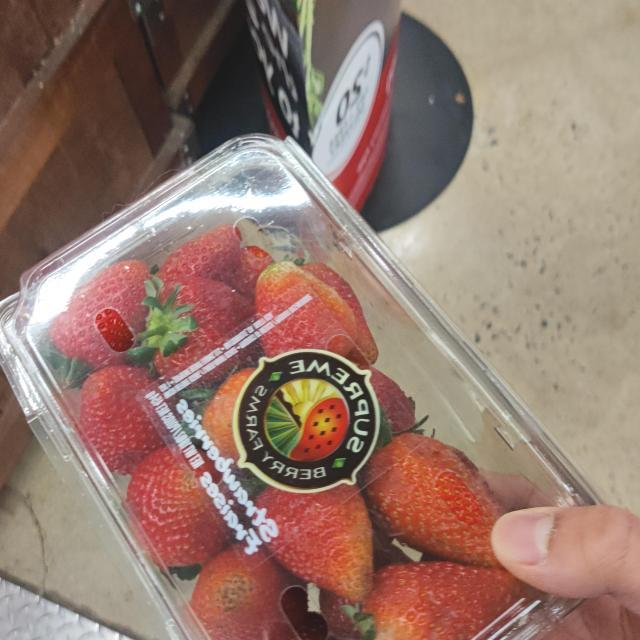Straw Berry: (0, 209, 554, 640)
